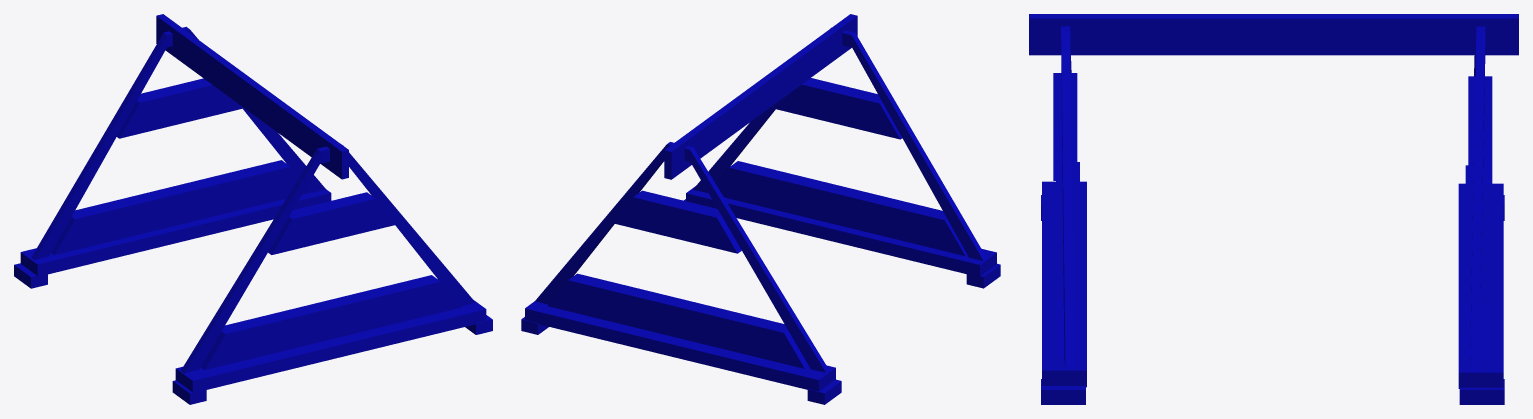
File: protection_police.fbx
3 renders of one model, left to right at view 1: azimuth 30°, elevation 25°; view 2: azimuth 150°, elevation 25°; view 3: azimuth 270°, elevation 25°, orthographic. The views are drawn at different scales.
Visible parts, largest first — view 1: pCube113; view 2: pCube113; view 3: pCube113.
Boxes of the visible parts, box(x1,y1,x2,y2) form: pCube113: box(14, 14, 492, 404); pCube113: box(521, 14, 1000, 404); pCube113: box(1029, 14, 1518, 404).
Size of the model in its own units: 4.37 by 3.04 by 4.64.
